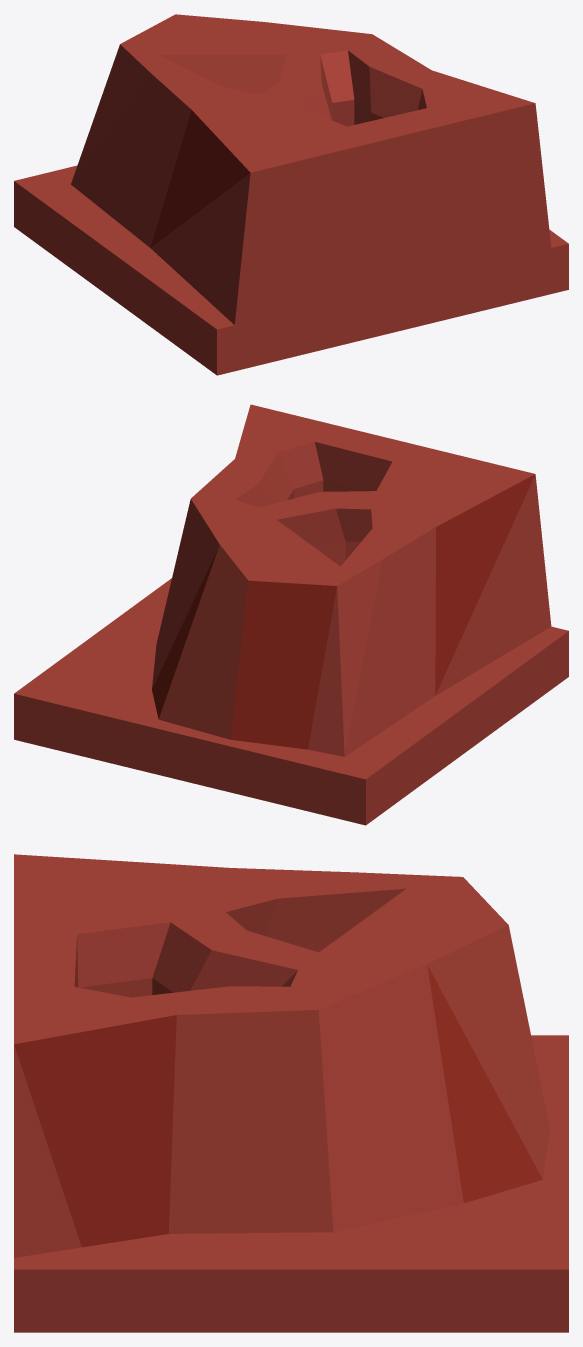
Rendered from Field_11_digged.fbx.
3 views of the same model, one above another, from view 1: azimuth 30°, elevation 25°; view 2: azimuth 150°, elevation 25°; view 3: azimuth 270°, elevation 25° (orthographic). The views are drawn at different scales.
Parts seen in each view (by area): view 1: Plane.025; view 2: Plane.025; view 3: Plane.025.
Boxes of the visible parts, left/top/right/bottom form: Plane.025: left=14, top=14, right=568, bottom=375; Plane.025: left=14, top=404, right=568, bottom=825; Plane.025: left=14, top=854, right=568, bottom=1332.
Size of the model in its own units: 400 by 212 by 400.
